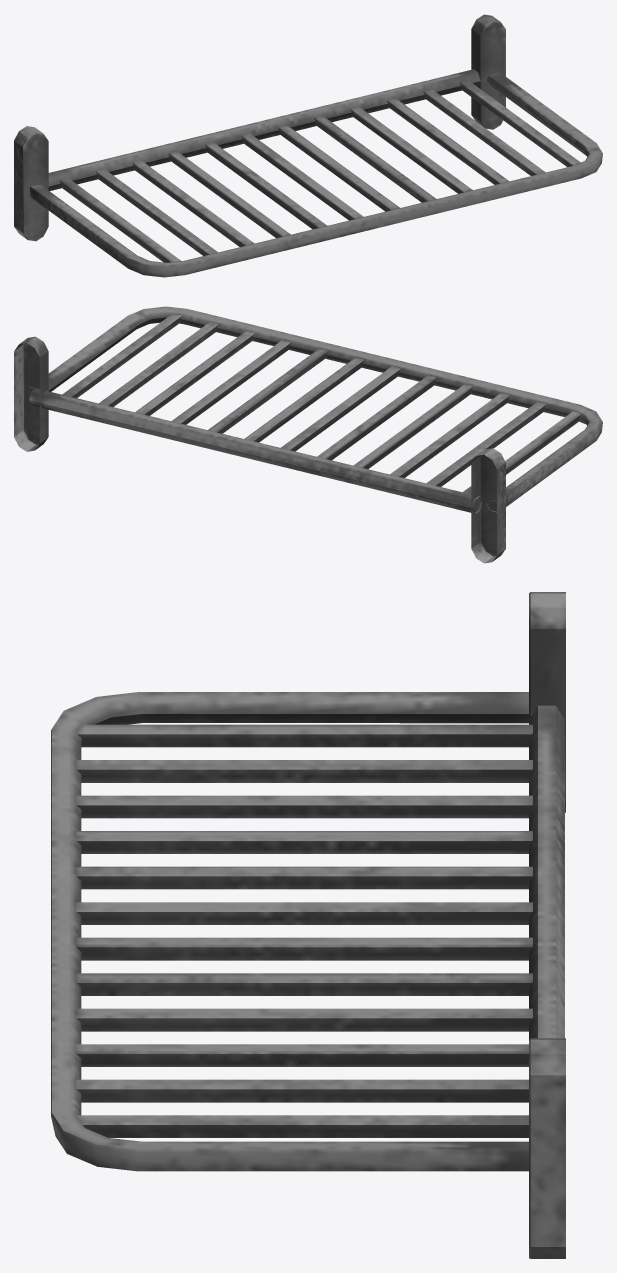
Rendered from SM_MetalShelf_A.fbx.
3 views of the same model, one above another, from view 1: azimuth 30°, elevation 25°; view 2: azimuth 150°, elevation 25°; view 3: azimuth 270°, elevation 25° (orthographic). The views are drawn at different scales.
Parts seen in each view (by area): view 1: SM_MetalShelf_A; view 2: SM_MetalShelf_A; view 3: SM_MetalShelf_A.
Part boxes in pixels (x1,y1,x2,y2): SM_MetalShelf_A: [14, 14, 602, 277]; SM_MetalShelf_A: [14, 306, 602, 563]; SM_MetalShelf_A: [51, 592, 565, 1258].
Bounding box in the file's own units: 0.9373 × 0.4329 × 0.2017.
